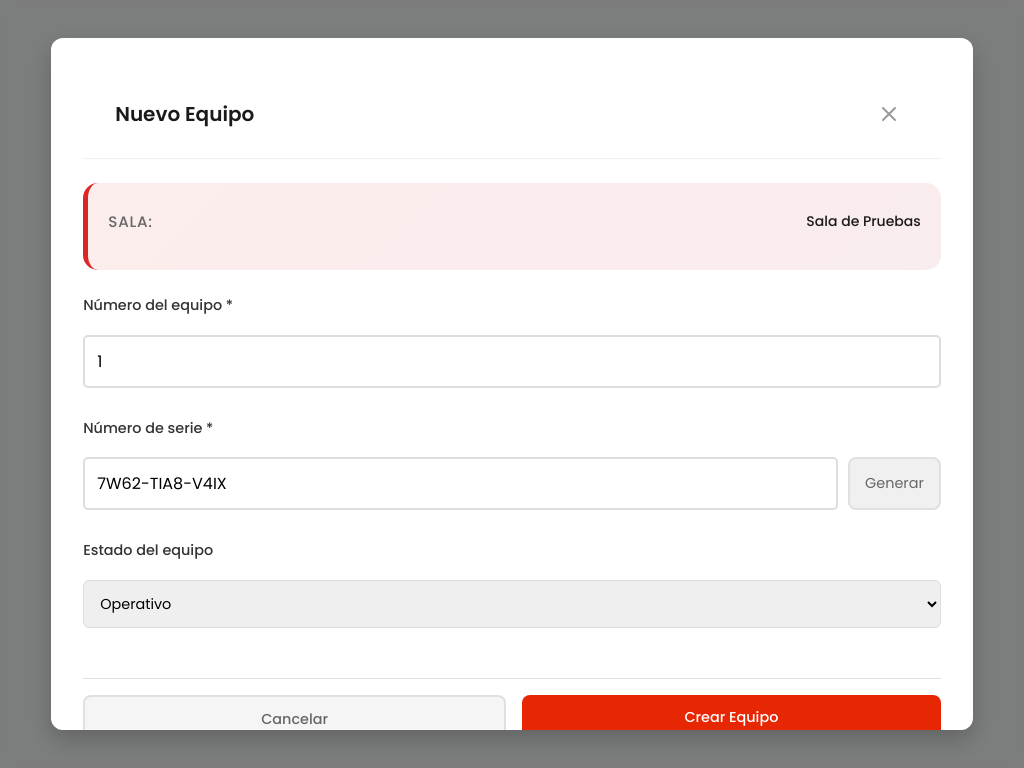
Test case: ComputerModal › genera serial automáticamente
The image size is (1024, 768).
Click the button "Generar".
click(894, 484)  # box [848, 457, 941, 510]
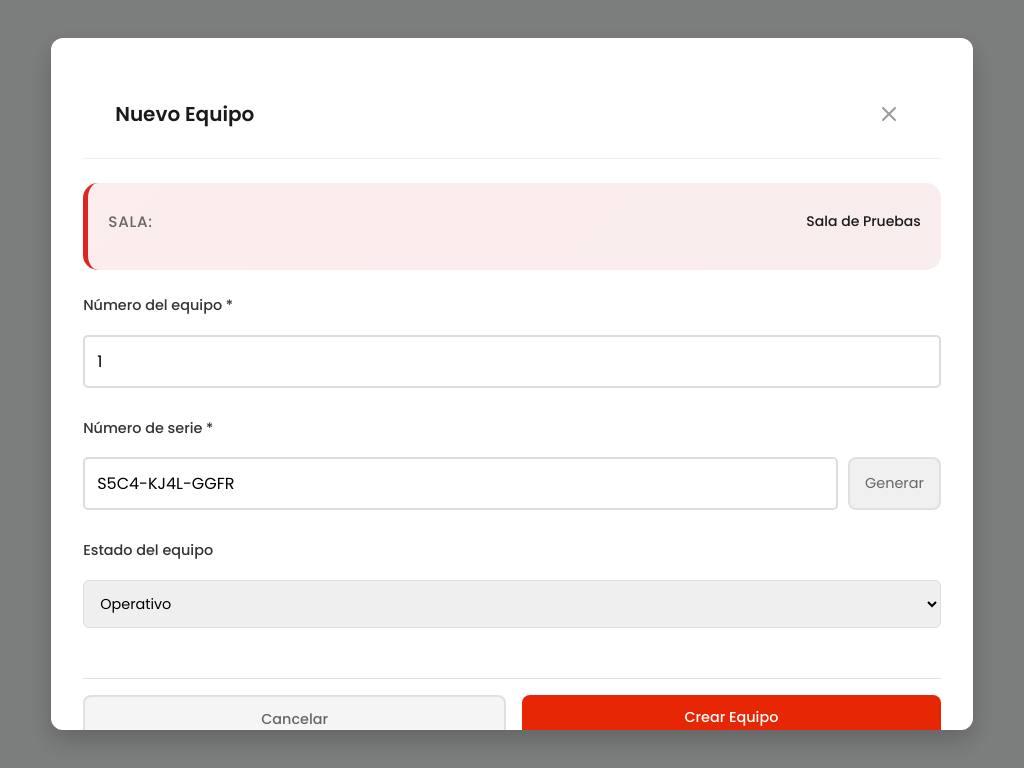
Expected: the field labelled "Número de serie *" does not hold "COMP-001", [83, 457, 838, 510]
